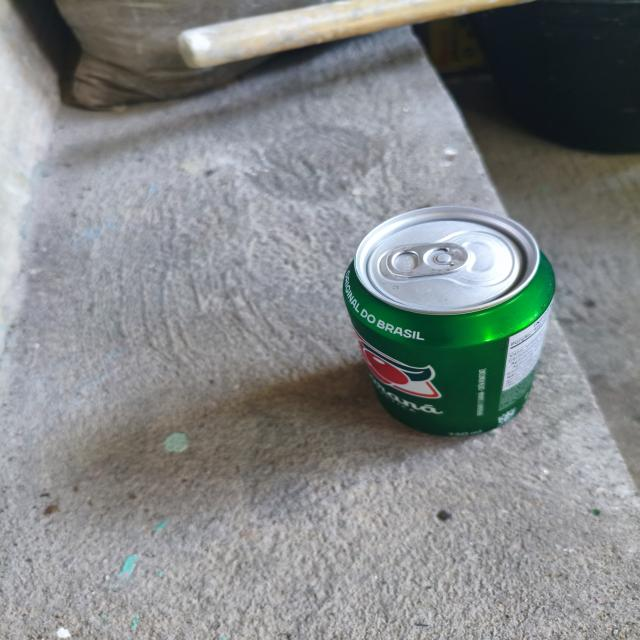Guarana: (338, 189, 556, 478)
